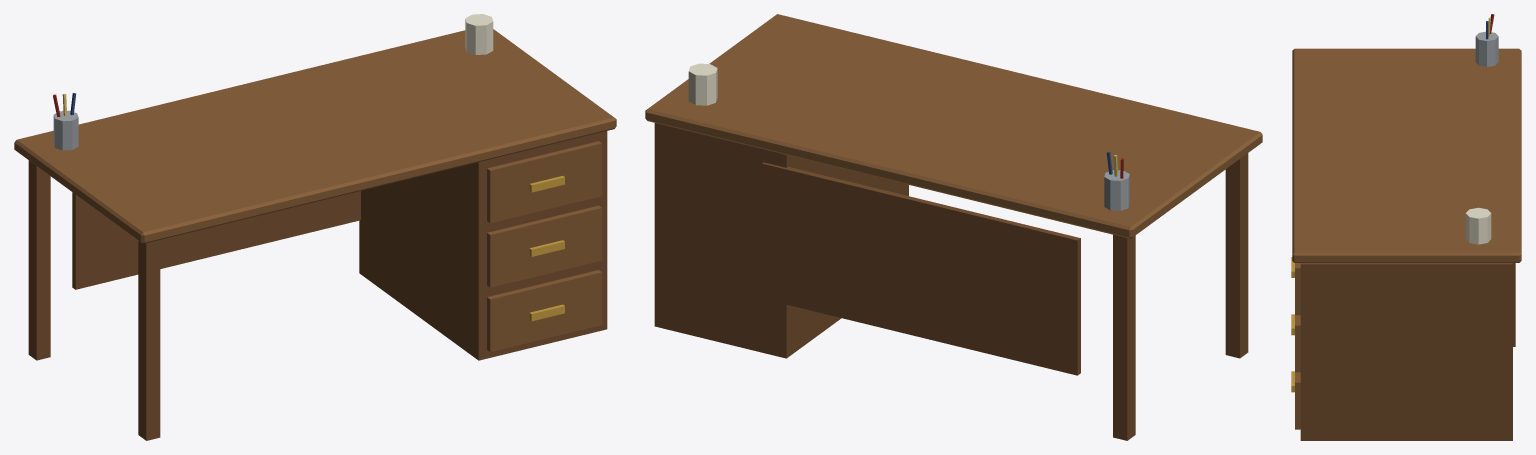
The model's file is room.desk.glb.
3 views of the same model, side by side, from view 1: azimuth 30°, elevation 25°; view 2: azimuth 150°, elevation 25°; view 3: azimuth 270°, elevation 25° (orthographic). The views are drawn at different scales.
Parts seen in each view (by area): view 1: top, pedestal, modesty, drawer1, drawer0, drawer2, leg1, leg-1, mug, pot; view 2: top, modesty, pedestal, leg1, leg-1, mug, pot; view 3: top, pedestal, mug, pot, drawer1, drawer2, drawer0, modesty.
Boxes of the visible parts, box(x1,y1,x2,y2) form: top: box(14, 29, 616, 243); pedestal: box(359, 131, 607, 360); modesty: box(72, 191, 360, 289); drawer1: box(487, 205, 602, 287); drawer0: box(487, 141, 602, 223); drawer2: box(487, 270, 602, 351); leg1: box(138, 240, 160, 440); leg-1: box(28, 160, 50, 360); mug: box(465, 14, 493, 54); pot: box(53, 110, 78, 150); top: box(645, 14, 1262, 238); modesty: box(762, 162, 1080, 375); pedestal: box(654, 123, 908, 358); leg1: box(1225, 153, 1248, 358); leg-1: box(1113, 234, 1135, 440); mug: box(688, 63, 717, 105); pot: box(1104, 170, 1129, 210); top: box(1292, 48, 1521, 262); pedestal: box(1300, 263, 1512, 440); mug: box(1465, 207, 1491, 244); pot: box(1475, 31, 1498, 66); drawer1: box(1295, 315, 1300, 372); drawer2: box(1295, 372, 1300, 429); drawer0: box(1295, 263, 1300, 315); modesty: box(1513, 263, 1515, 346).
Size of the model in its own units: 1.7 by 0.9008 by 0.8025.
